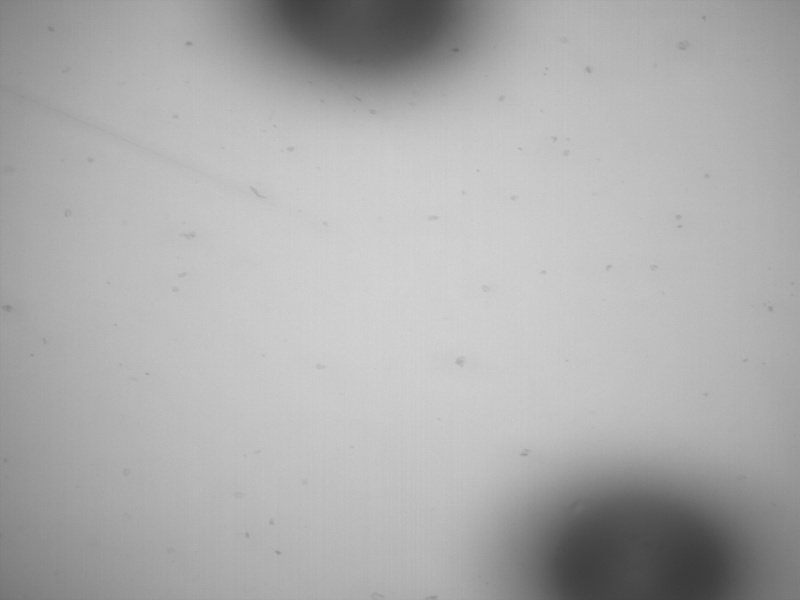bead: (541, 488, 742, 600), (263, 1, 461, 69)
fiber: (1, 81, 221, 188)
